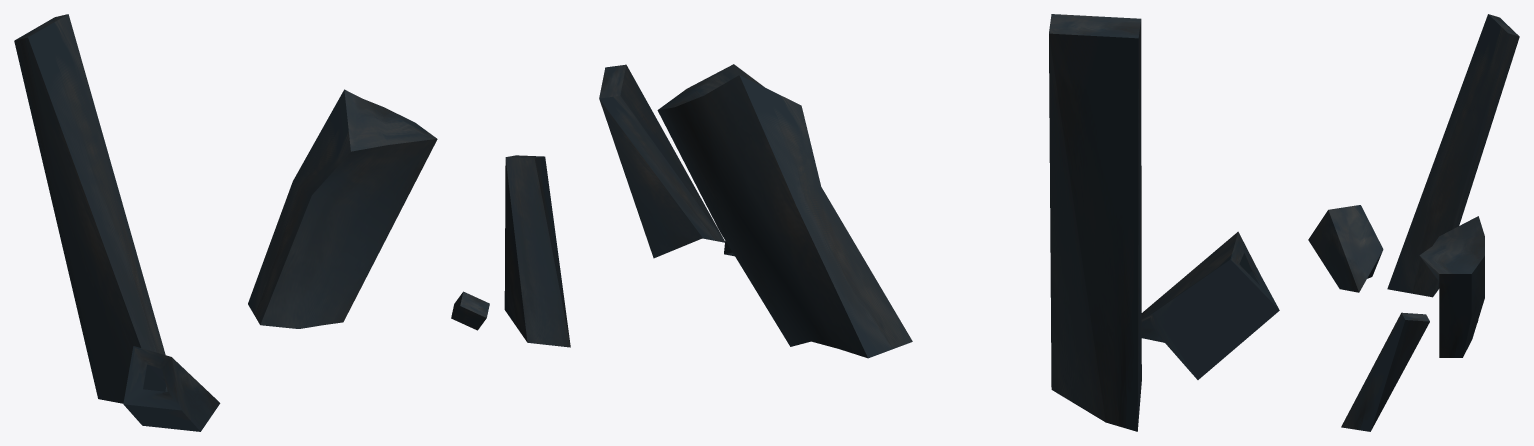
Rendered from PileOfStuff2.fbx.
3 views of the same model, side by side, from view 1: azimuth 30°, elevation 25°; view 2: azimuth 150°, elevation 25°; view 3: azimuth 270°, elevation 25° (orthographic). The views are drawn at different scales.
Parts seen in each view (by area): view 1: pCube5; view 2: pCube5; view 3: pCube5.
Part boxes in pixels (bbox=[...]): pCube5: bbox=[14, 14, 570, 431]; pCube5: bbox=[599, 14, 1279, 431]; pCube5: bbox=[1308, 14, 1519, 431].
Size of the model in its own units: 1.94 by 1.39 by 1.04.
Materials: 1 (1 with a texture image).
